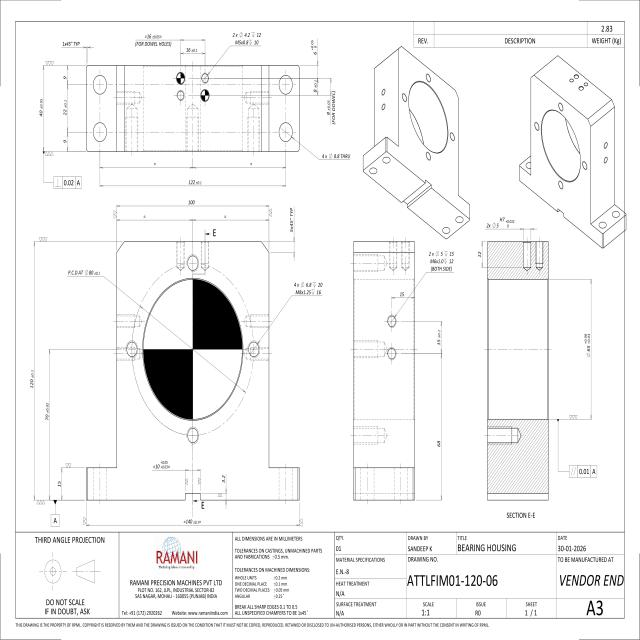dimension: (428, 249, 455, 273), (135, 34, 172, 48), (292, 280, 323, 296), (232, 30, 262, 46), (326, 90, 336, 127), (485, 216, 515, 228), (67, 268, 100, 276), (583, 331, 592, 359), (321, 152, 351, 160), (152, 460, 170, 469), (182, 518, 202, 526), (61, 40, 80, 48), (187, 178, 203, 186), (310, 38, 317, 56), (38, 98, 44, 119), (28, 370, 34, 390), (62, 98, 68, 118), (290, 205, 294, 233), (219, 472, 227, 485), (44, 402, 49, 422), (186, 46, 198, 54), (436, 329, 441, 347), (313, 79, 318, 94), (186, 199, 196, 206), (398, 290, 406, 298), (436, 439, 441, 448), (477, 250, 482, 259), (57, 480, 62, 488), (62, 138, 68, 144), (62, 75, 67, 81)
